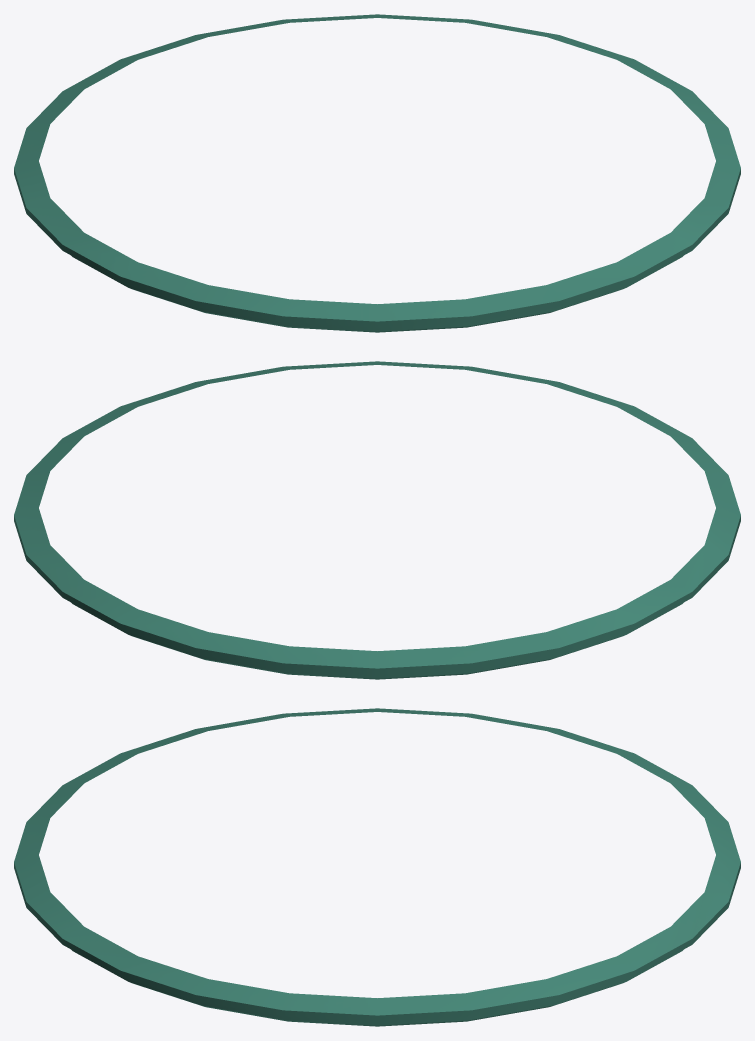
The model's file is dome.trim_top.copper.glb.
3 renders of one model, top to bottom at view 1: azimuth 30°, elevation 25°; view 2: azimuth 150°, elevation 25°; view 3: azimuth 270°, elevation 25°, orthographic.
Visible parts, largest first — view 1: dome_trim_top_copper; view 2: dome_trim_top_copper; view 3: dome_trim_top_copper.
Part boxes in pixels (bbox=[...]): dome_trim_top_copper: bbox=[14, 14, 740, 332]; dome_trim_top_copper: bbox=[14, 361, 740, 679]; dome_trim_top_copper: bbox=[14, 708, 740, 1026].
Size of what is drawn, in the model's own units: 7.6 by 0.3 by 7.6.
